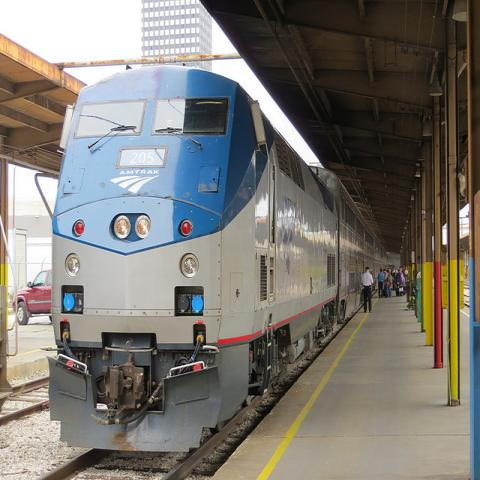truck: (16, 271, 53, 323)
